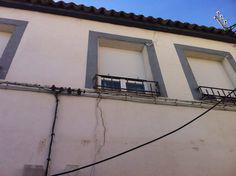crack: (96, 97, 106, 155)
